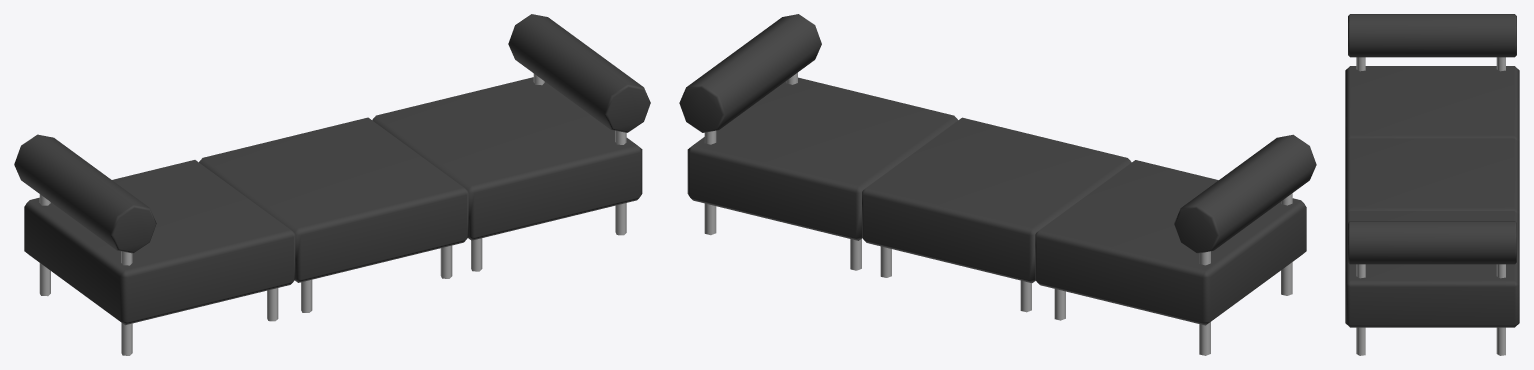
Rendered from sofa_007.fbx.
3 views of the same model, side by side, from view 1: azimuth 30°, elevation 25°; view 2: azimuth 150°, elevation 25°; view 3: azimuth 270°, elevation 25° (orthographic). The views are drawn at different scales.
Parts seen in each view (by area): view 1: sofa_007; view 2: sofa_007; view 3: sofa_007.
Boxes of the visible parts, x1,y1,x2,y2 form: sofa_007: [14, 14, 650, 355]; sofa_007: [679, 14, 1316, 355]; sofa_007: [1345, 14, 1519, 355].
Size of the model in its own units: 366 by 119 by 99.51.
